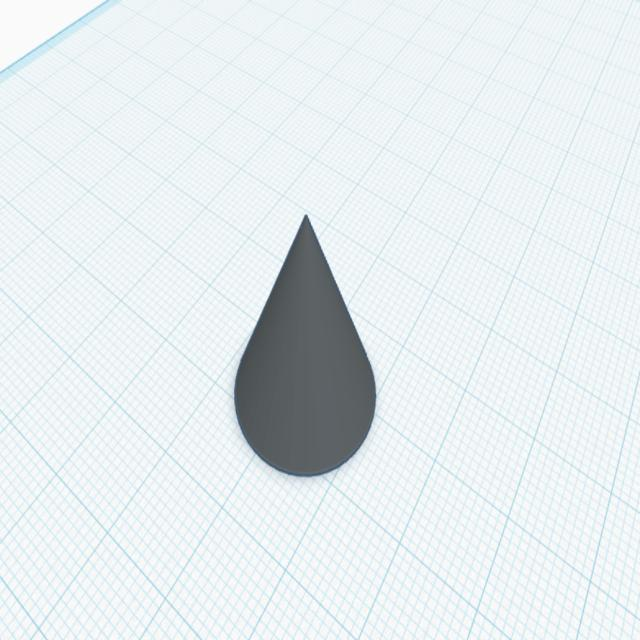cone: (230, 210, 379, 484)
